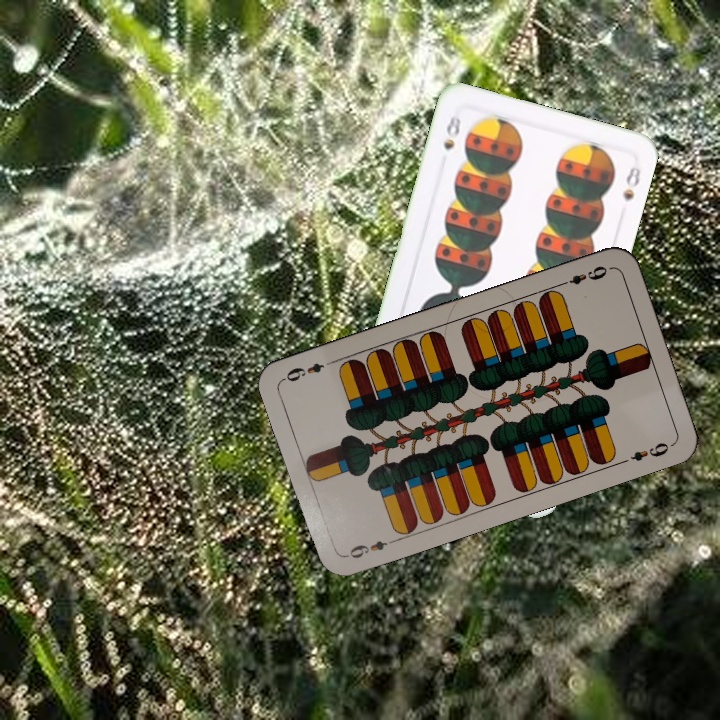E9: (555, 261, 610, 289), (342, 535, 399, 561)
S8: (439, 106, 464, 153)
